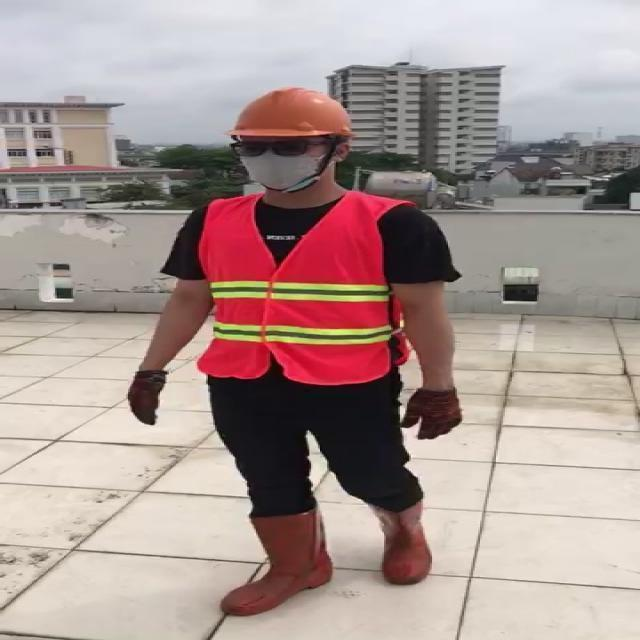gloves: (394, 372, 478, 448), (119, 364, 172, 432)
goggles: (227, 129, 315, 167)
helmet: (217, 82, 363, 144)
safety_vest: (197, 193, 411, 378)
